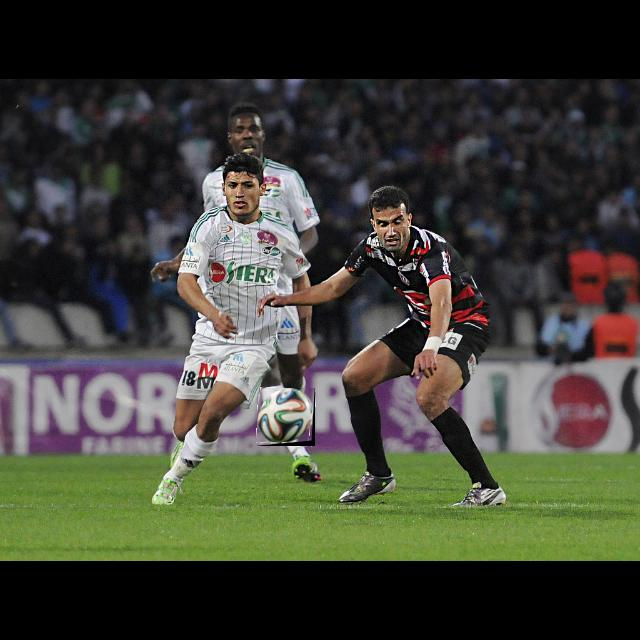Football: (257, 388, 315, 446)
